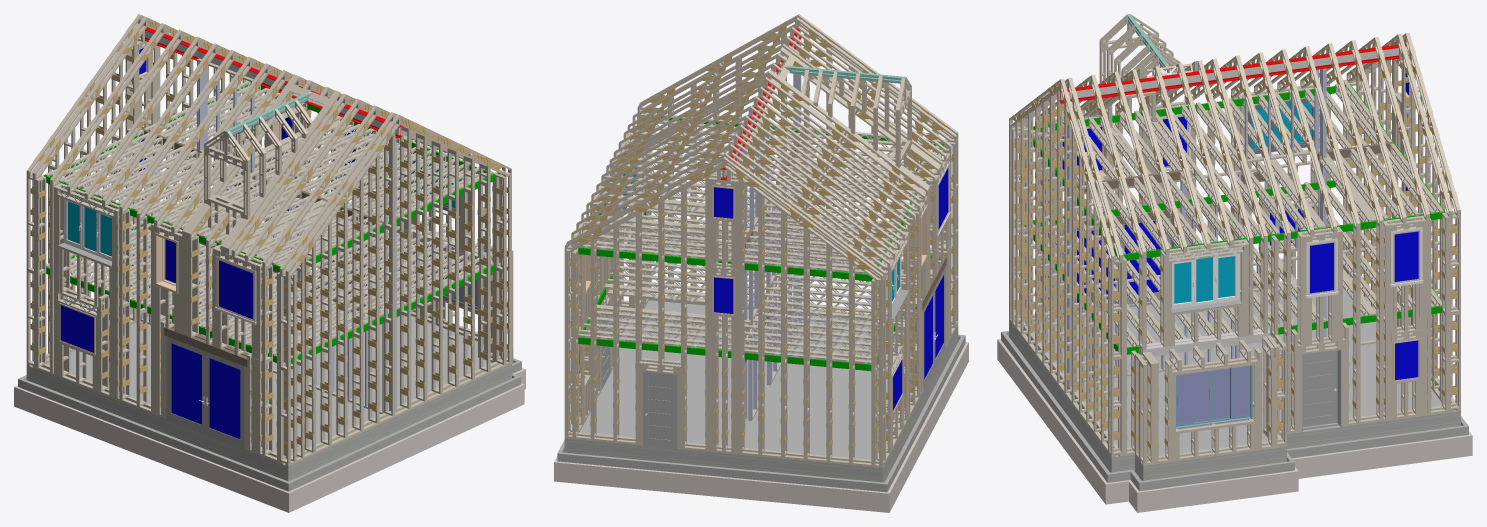
The model's file is millbrook-plot-1.glb.
3 views of the same model, side by side, from view 1: azimuth 30°, elevation 25°; view 2: azimuth 150°, elevation 25°; view 3: azimuth 270°, elevation 25° (orthographic). The views are drawn at different scales.
Parts seen in each view (by area): view 1: part_10, part_11, part_05, part_19, part_01, part_13, part_09, part_25, part_12, part_03, part_04, part_00 (+6 smaller); view 2: part_10, part_11, part_09, part_05, part_13, part_19, part_03, part_25, part_12, part_01, part_00, part_04 (+2 smaller); view 3: part_10, part_11, part_05, part_19, part_09, part_13, part_01, part_25, part_03, part_12, part_07, part_22 (+8 smaller).
Boxes of the visible parts, <box> form: part_10: <box>26,14,513,466</box>; part_11: <box>30,21,509,449</box>; part_05: <box>18,348,521,491</box>; part_19: <box>14,368,525,512</box>; part_01: <box>60,48,355,439</box>; part_13: <box>52,82,484,357</box>; part_09: <box>46,287,492,455</box>; part_25: <box>140,61,396,413</box>; part_12: <box>43,84,495,363</box>; part_03: <box>58,243,476,449</box>; part_04: <box>18,351,521,491</box>; part_00: <box>59,50,358,355</box>; part_10: <box>564,14,958,468</box>; part_11: <box>568,22,954,452</box>; part_09: <box>579,300,903,459</box>; part_05: <box>557,325,965,491</box>; part_13: <box>585,62,933,371</box>; part_19: <box>554,342,968,512</box>; part_03: <box>601,267,945,448</box>; part_25: <box>737,43,803,431</box>; part_12: <box>578,116,943,371</box>; part_01: <box>579,168,948,410</box>; part_00: <box>578,165,949,413</box>; part_04: <box>557,328,963,492</box>; part_10: <box>1009,14,1460,465</box>; part_11: <box>1010,37,1457,449</box>; part_05: <box>1001,300,1468,490</box>; part_19: <box>997,339,1472,512</box>; part_09: <box>1033,287,1441,455</box>; part_13: <box>1033,66,1441,365</box>; part_01: <box>1062,72,1418,380</box>; part_25: <box>1067,69,1326,384</box>; part_03: <box>1077,217,1432,431</box>; part_12: <box>1024,84,1445,354</box>; part_07: <box>1060,48,1398,356</box>; part_22: <box>1177,367,1247,423</box>.
Size of the model in its own units: 11.84 by 9.59 by 11.75.
